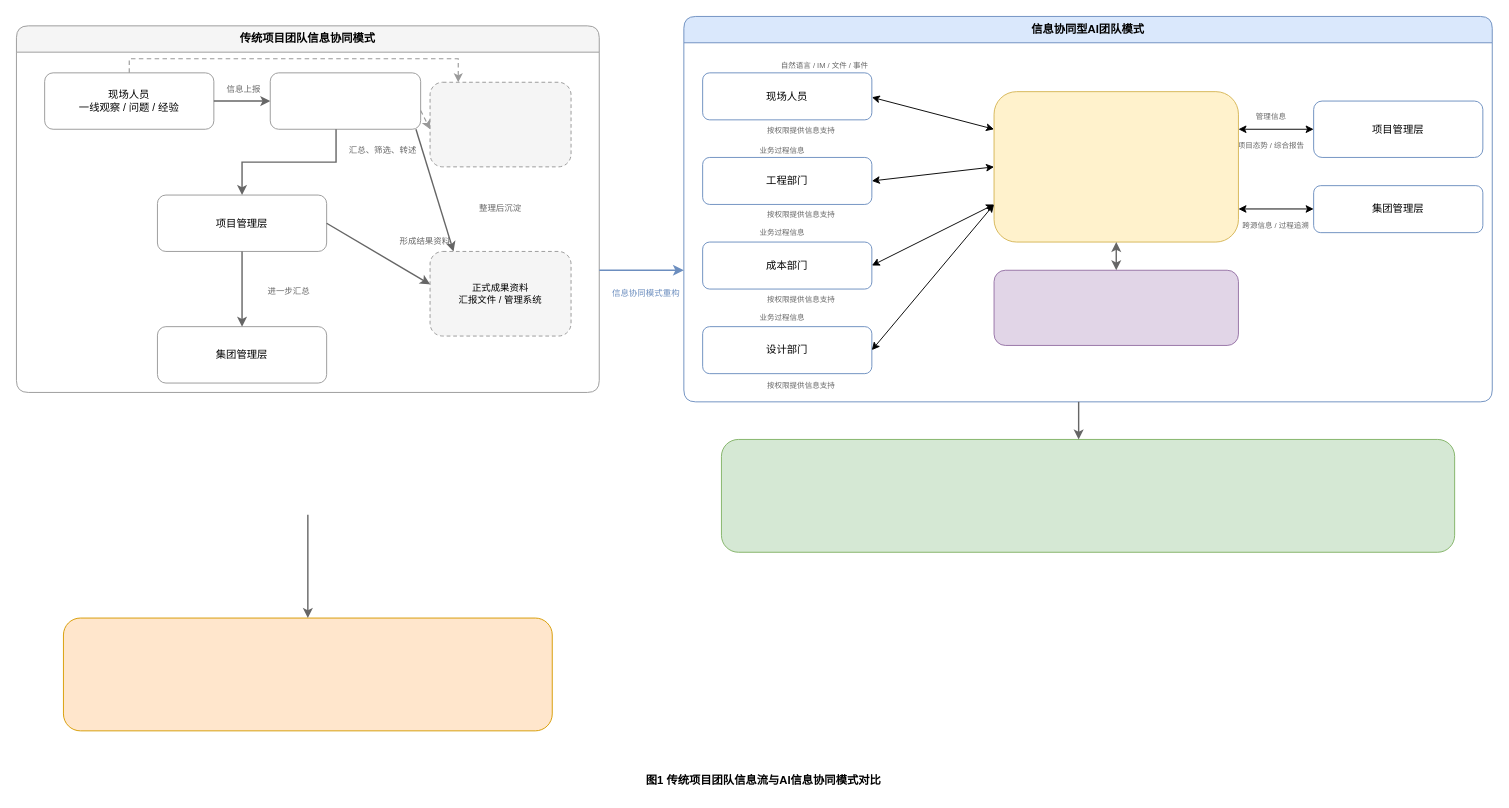
This 1509x808 diagram has some shape labels left out. The centre of each missing label's shape, as x and y in pixels:
"专业部门 工程 / 成本 / 设计" goes at [345,100].
"个人经验 即时通讯记录 零散文件" goes at [500,124].
"信息逐级过滤 过程信息流失 跨部门壁垒 知识随人员流动" goes at [307,674].
"团队公共AI信息协同中枢 Emily" goes at [1115,166].
"团队公共认知环境 项目态势 + 组织规则 + 系统能力" goes at [1115,307].
"持续采集 多源关联 公共认知 按权限服务 全过程可追溯" goes at [1088,495].
